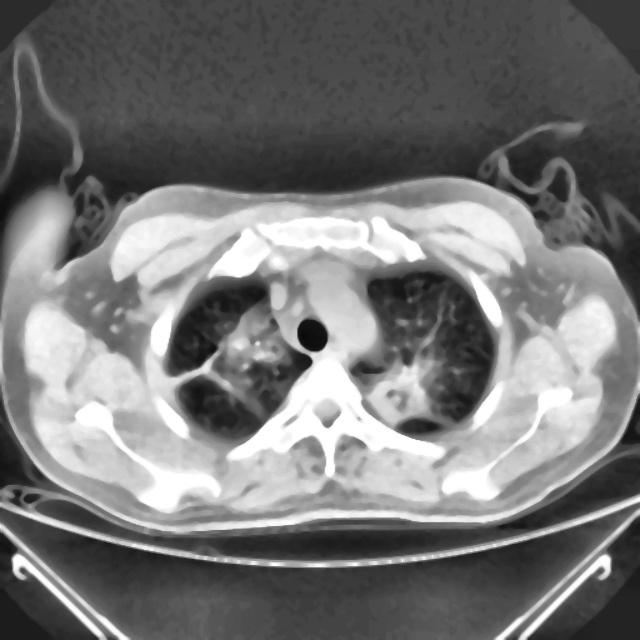covid: (6, 171, 638, 534)
